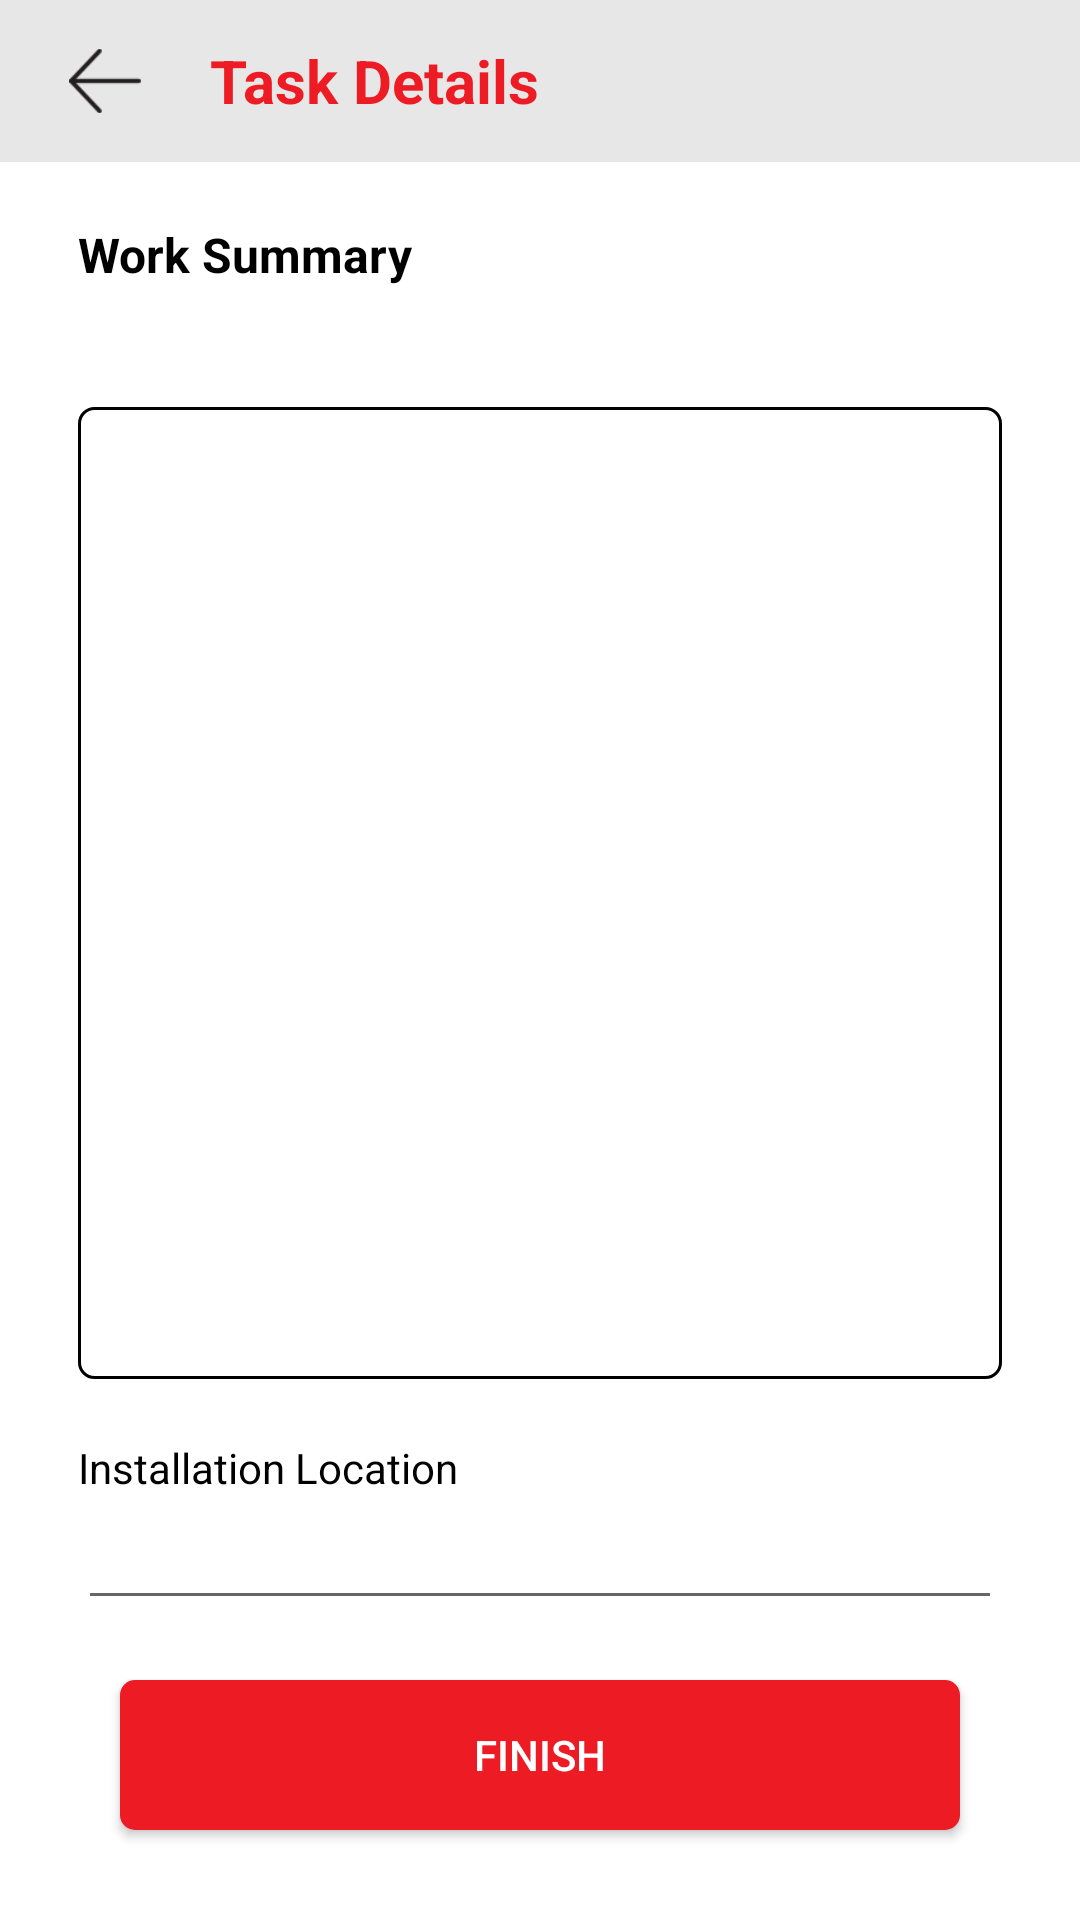

Where to tap for icons on this 1080x1920 app screen, as point (x, y):
back: point (105, 81)
